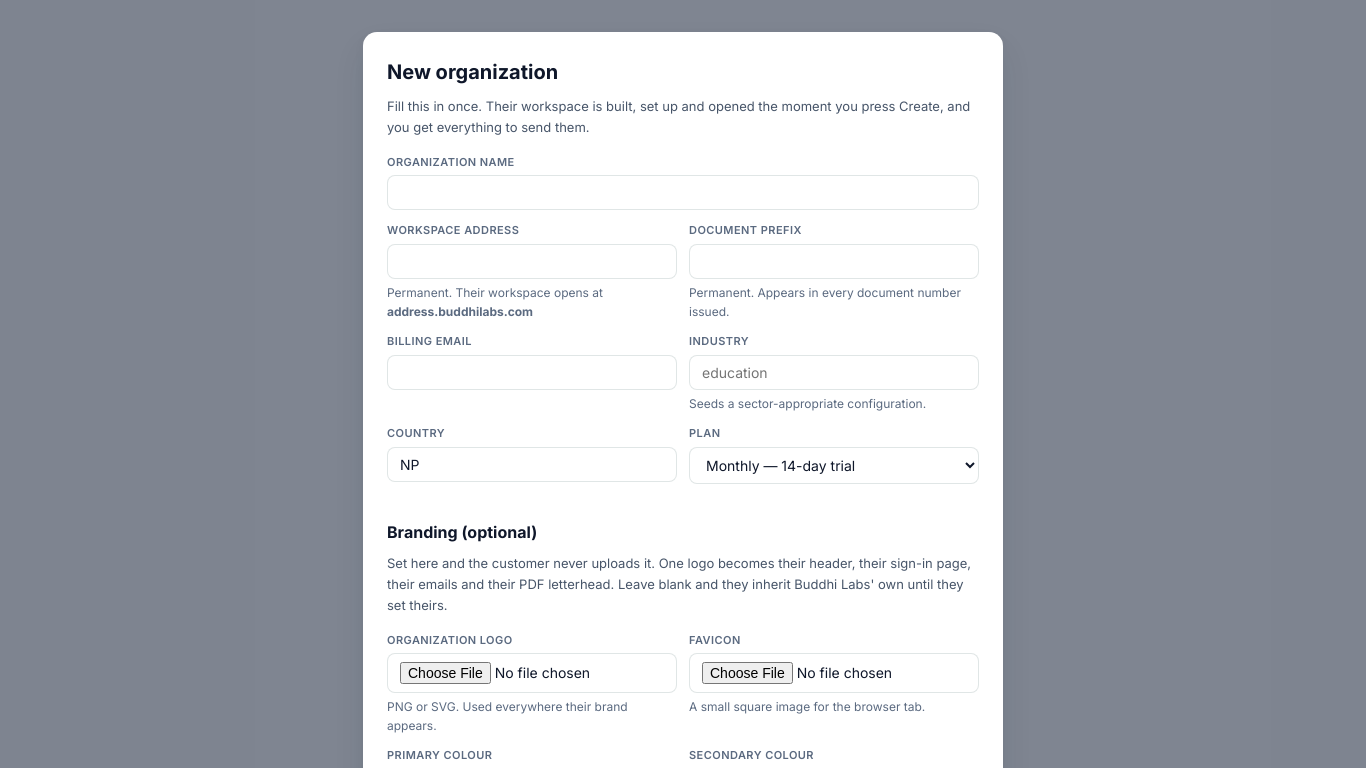
Test: the create-organization form › derives the subdomain and previews where the tenant will open
This screenshot has width=1366, height=768.
Type "ABC School" into the field labelled "Organization name". click: (683, 193)
box: top-left (387, 175), bottom-right (979, 210)
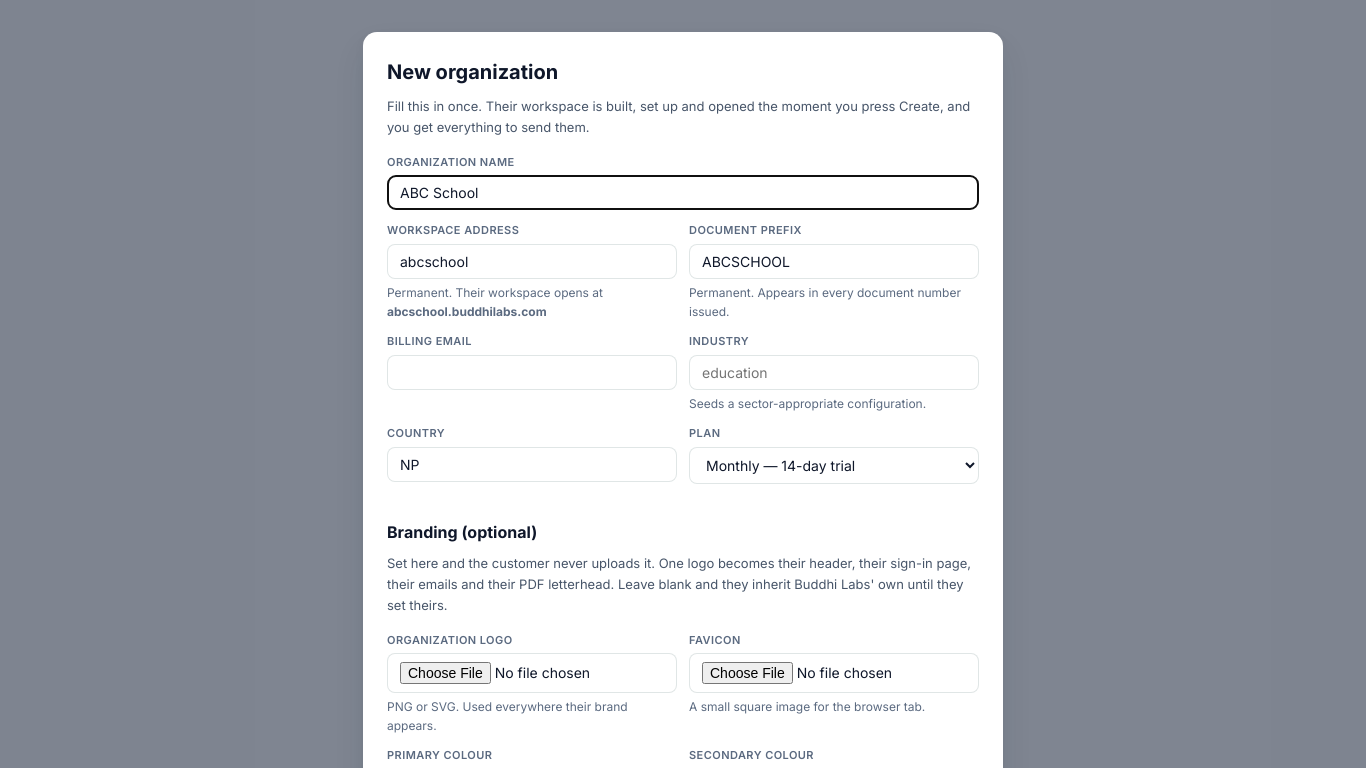
Result: the field labelled "Workspace address" holds "abcschool" at top-left (387, 244), bottom-right (677, 279)
Result: the text "abcschool.buddhilabs.com" is shown at top-left (387, 304), bottom-right (547, 319)
